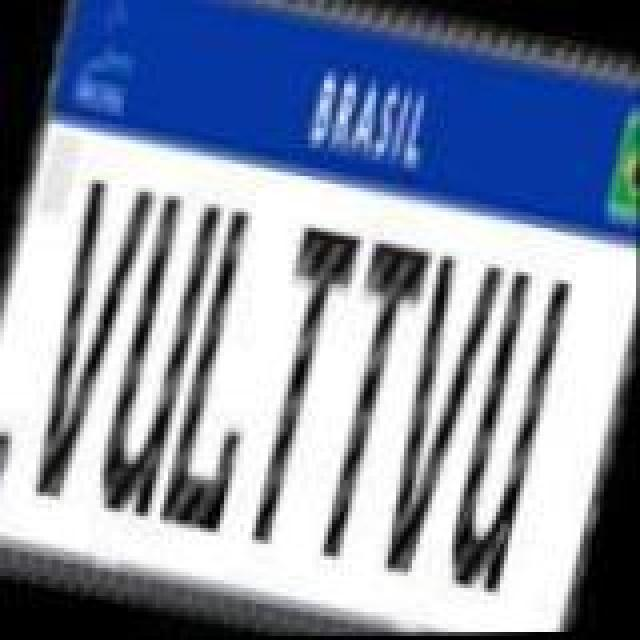L: (156, 200, 296, 544)
T: (230, 220, 362, 556), (298, 236, 430, 572)
U: (92, 186, 224, 526), (442, 264, 574, 604)
V: (18, 168, 154, 508), (368, 250, 504, 590)
